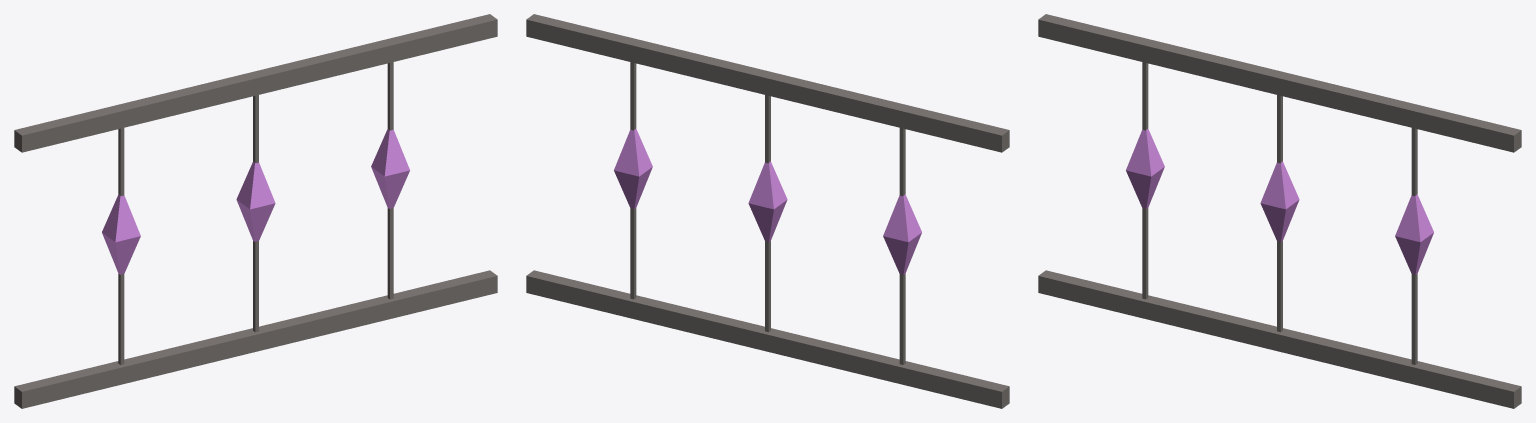
Rendered from crystal_fence.obj.
The picture shows the model from 3 angles, left to right: view 1: azimuth 30°, elevation 25°; view 2: azimuth 150°, elevation 25°; view 3: azimuth 330°, elevation 25°; orthographic projection.
Visible parts, largest first — view 1: Cylinder.045_Cylinder.031; view 2: Cylinder.045_Cylinder.031; view 3: Cylinder.045_Cylinder.031.
Part boxes in pixels (x1,y1,x2,y2): Cylinder.045_Cylinder.031: (14,14,497,408); Cylinder.045_Cylinder.031: (526,14,1009,408); Cylinder.045_Cylinder.031: (1038,14,1521,408).
Size of the model in its own units: 3 by 1.65 by 0.1491.
1 material, 1 textured.
